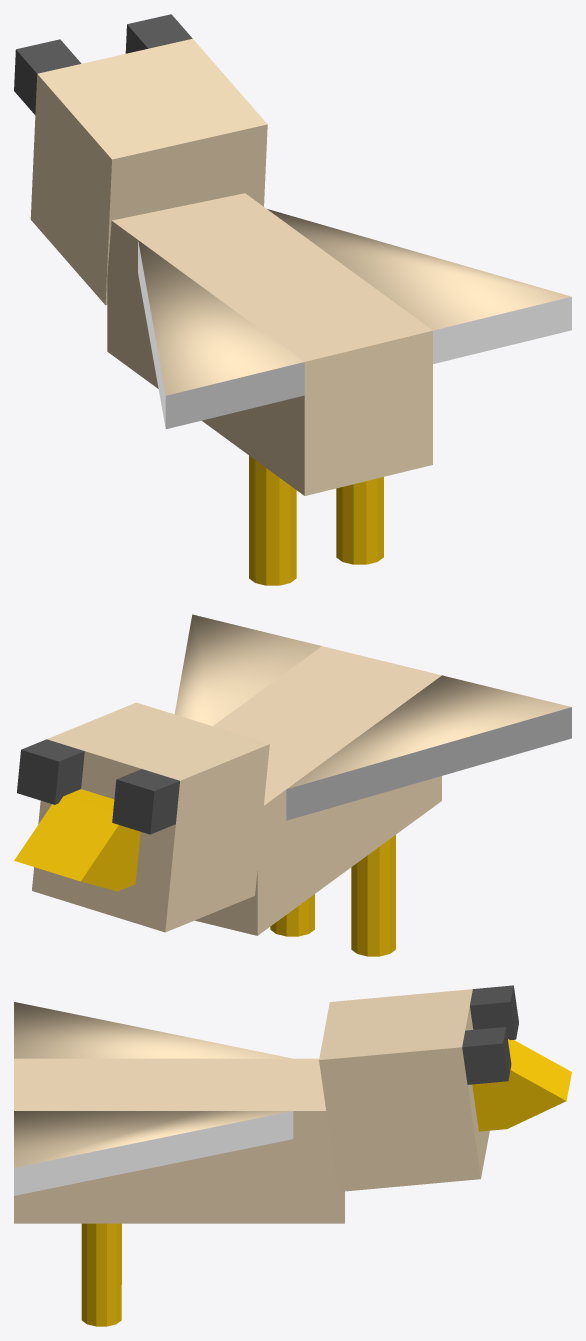
File: bird.fbx
3 renders of one model, top to bottom at view 1: azimuth 30°, elevation 25°; view 2: azimuth 150°, elevation 25°; view 3: azimuth 270°, elevation 25°, orthographic. The views are drawn at different scales.
Visible parts, largest first — view 1: mesh1883489249, mesh261538376, mesh1585938490, mesh307611759, mesh1416983144, mesh1184266618, mesh1425946548, mesh777834773; view 2: mesh261538376, mesh1883489249, mesh1585938490, mesh307611759, mesh23486509, mesh1416983144, mesh1425946548, mesh777834773, mesh1184266618; view 3: mesh1883489249, mesh261538376, mesh307611759, mesh1585938490, mesh23486509, mesh1184266618, mesh777834773, mesh1425946548.
Part boxes in pixels (box(x1,y1,x2,y2)): mesh1883489249: box(107, 193, 432, 495); mesh261538376: box(30, 38, 267, 305); mesh1585938490: box(138, 240, 304, 429); mesh307611759: box(267, 209, 571, 363); mesh1416983144: box(249, 455, 296, 585); mesh1184266618: box(336, 477, 383, 564); mesh1425946548: box(14, 39, 81, 114); mesh777834773: box(125, 14, 192, 53); mesh261538376: box(32, 702, 269, 932); mesh1883489249: box(195, 646, 441, 935); mesh1585938490: box(286, 675, 571, 820); mesh307611759: box(174, 614, 321, 726); mesh23486509: box(14, 789, 140, 891); mesh1416983144: box(351, 835, 395, 956); mesh1425946548: box(112, 769, 179, 834); mesh777834773: box(17, 739, 84, 804); mesh1184266618: box(270, 894, 314, 936); mesh1883489249: box(14, 1058, 344, 1223); mesh261538376: box(319, 989, 489, 1191); mesh307611759: box(14, 1111, 293, 1195); mesh1585938490: box(14, 1002, 292, 1058); mesh23486509: box(472, 1039, 571, 1131); mesh1184266618: box(81, 1223, 121, 1326); mesh777834773: box(462, 1027, 511, 1084); mesh1425946548: box(470, 985, 518, 1040).
Size of the model in its own units: 38 by 31.53 by 53.96.
